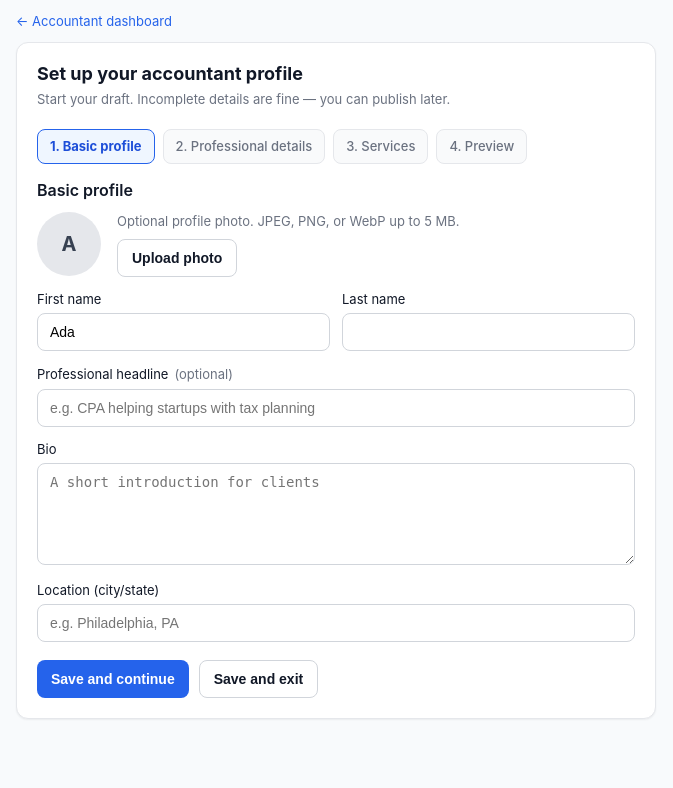
Test case: shows field-level API errors
Expected: the field labelled "First name" is shown, [37, 313, 330, 351]
Click the button "Save and continue" at point(113, 679), box [37, 660, 189, 698]
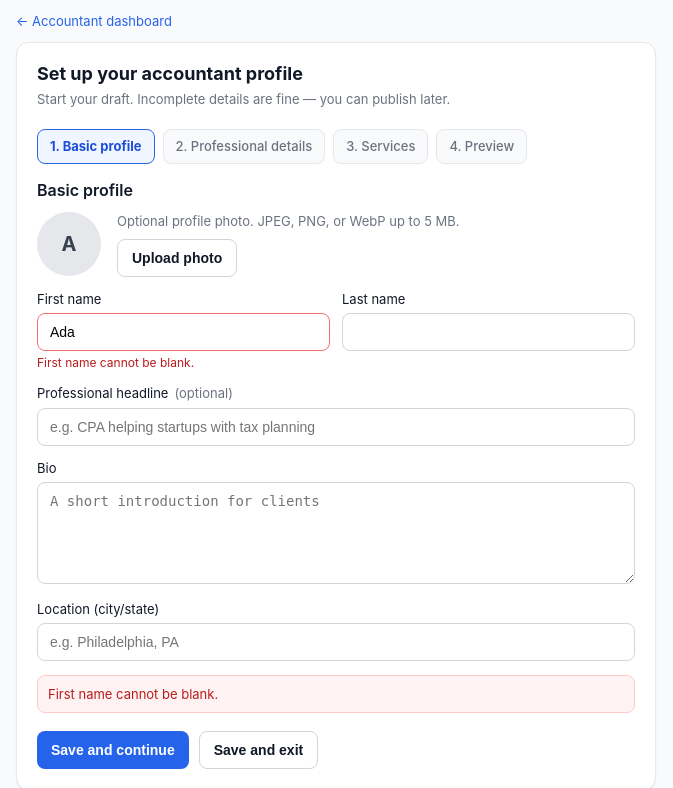
Result: the message reads "First name cannot be blank." at [48, 686, 218, 702]
